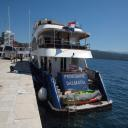cruises: (30, 19, 114, 120)
